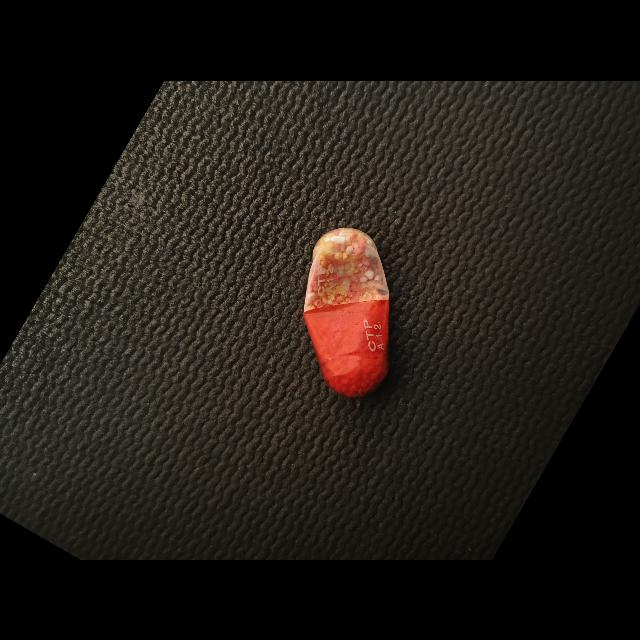Defective Capsule: (302, 227, 389, 397)
